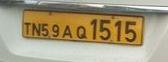1: (112, 19, 122, 41), (89, 17, 97, 39)
5: (123, 19, 137, 41), (98, 17, 110, 39), (40, 22, 49, 36)
9: (50, 23, 59, 36)
A: (61, 24, 72, 37)
N: (30, 20, 40, 35)
Q: (75, 24, 87, 38)
T: (22, 20, 31, 35)
